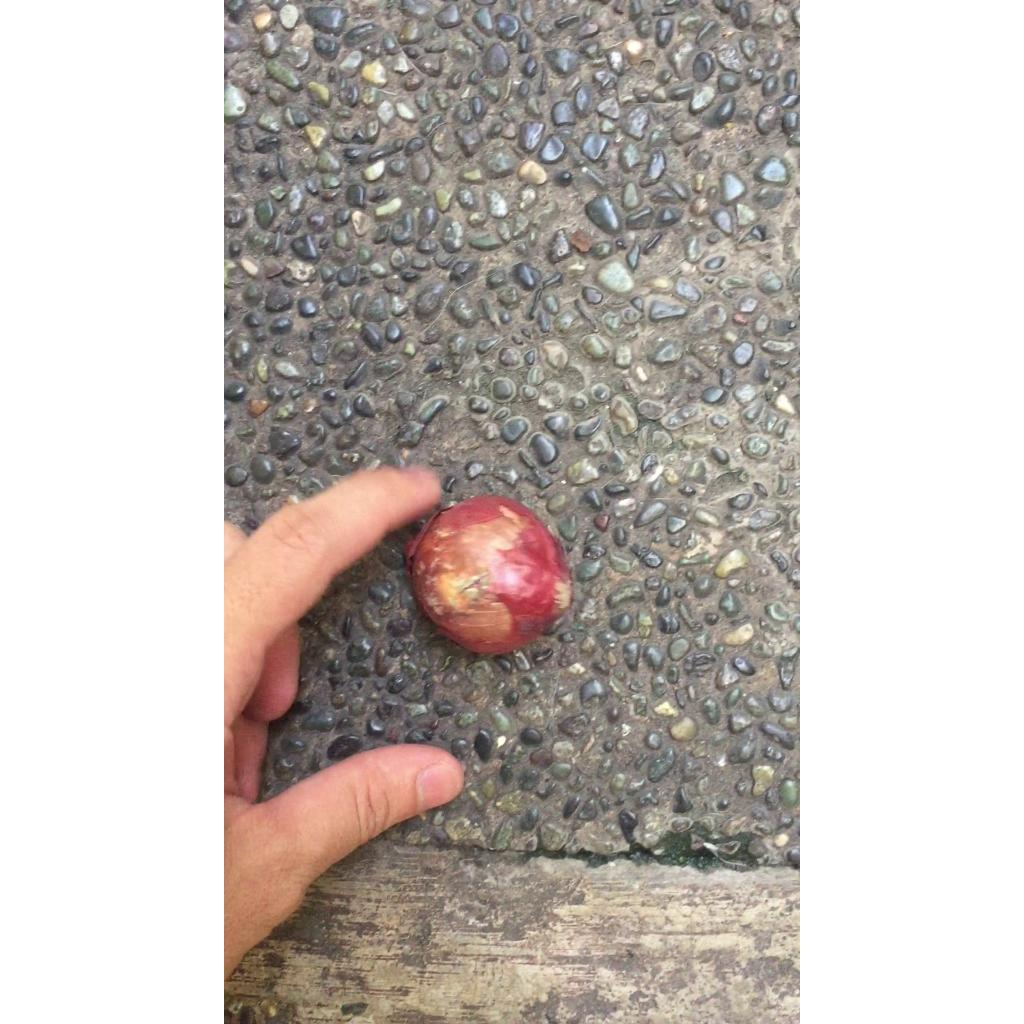Onion: (406, 497, 572, 654)
